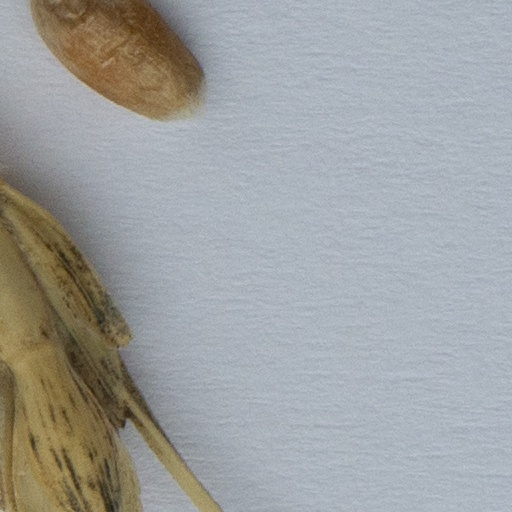Peel-poly: (0, 185, 223, 511)
